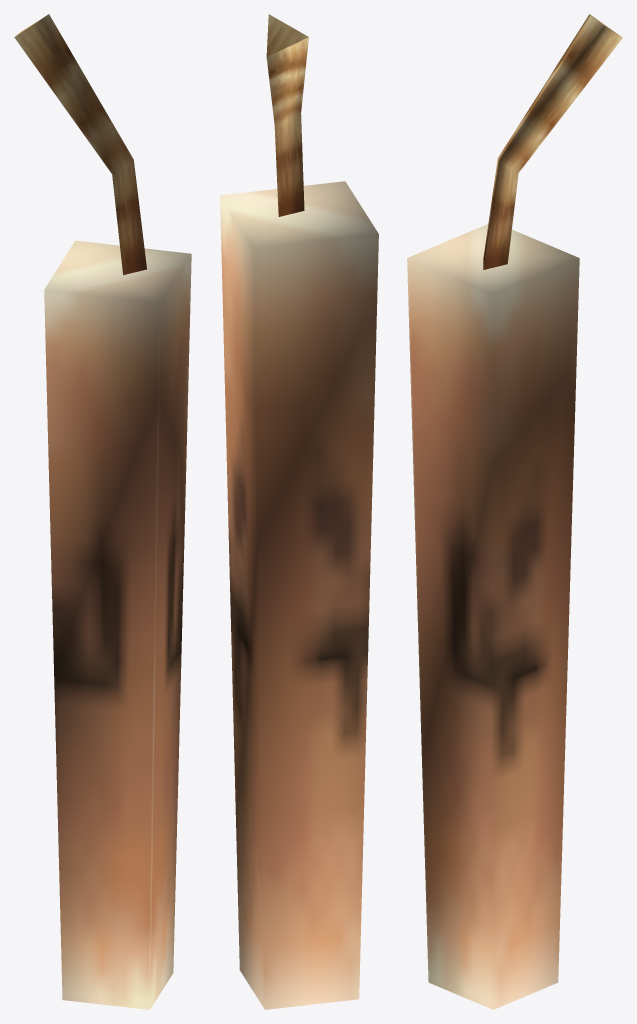
The model's file is gunshopdynamite.obj.
The picture shows the model from 3 angles, left to right: view 1: azimuth 30°, elevation 25°; view 2: azimuth 150°, elevation 25°; view 3: azimuth 270°, elevation 25°; orthographic projection. The views are drawn at different scales.
Parts seen in each view (by area): view 1: gunshopdynamite.m2; view 2: gunshopdynamite.m2; view 3: gunshopdynamite.m2.
Boxes of the visible parts, box(x1,y1,x2,y2) form: gunshopdynamite.m2: box(14, 14, 191, 1009); gunshopdynamite.m2: box(220, 14, 378, 1009); gunshopdynamite.m2: box(407, 14, 622, 1009).
Bounding box in the file's own units: 0.123 × 0.7504 × 0.1538.
Materials: 1 (1 with a texture image).
